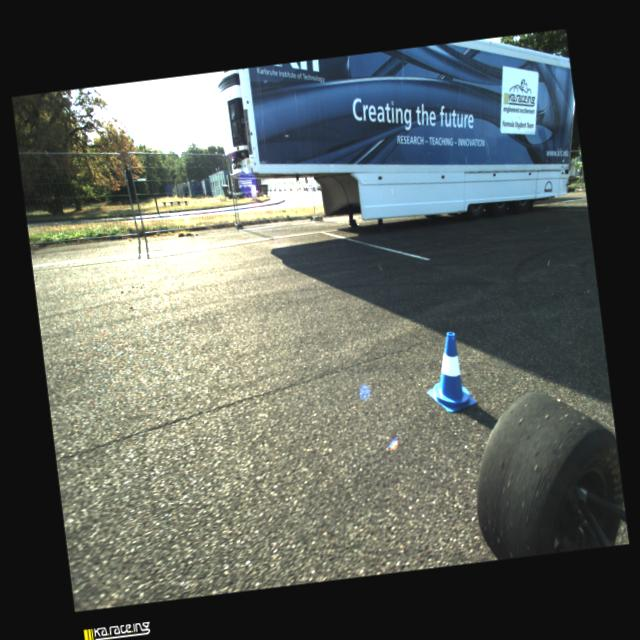blue_cone: (419, 329, 477, 414)
